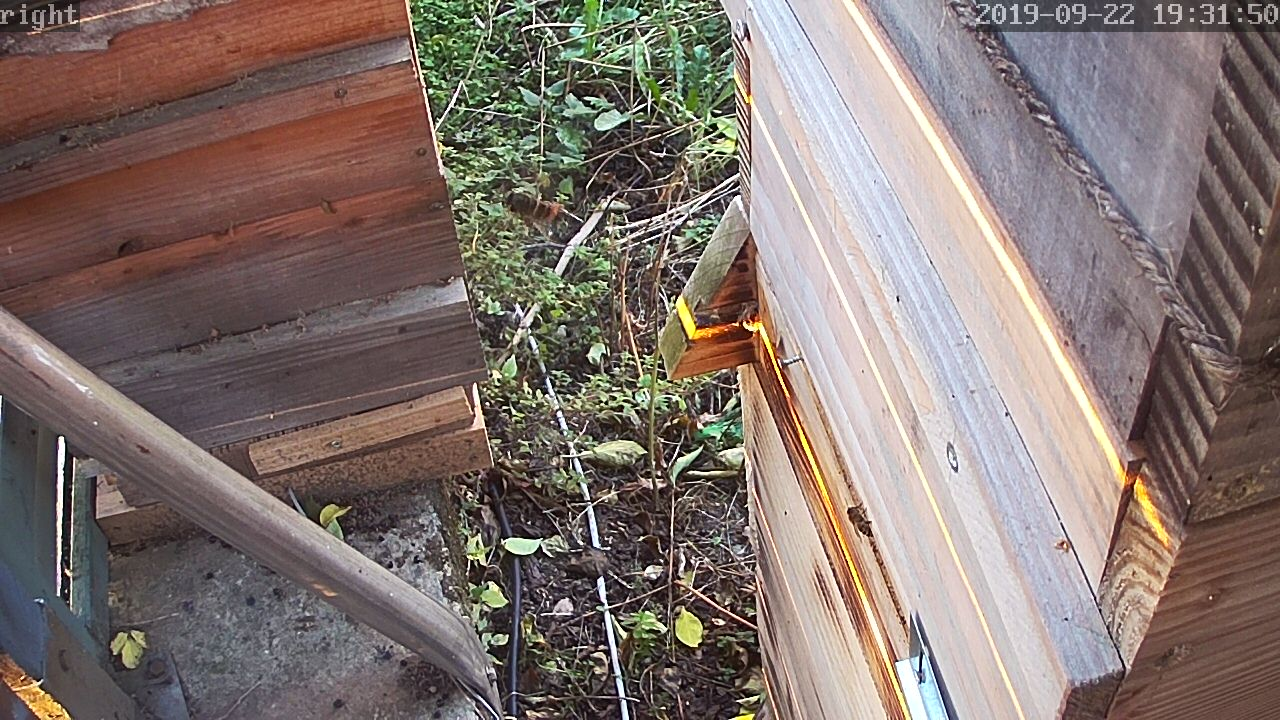bee: (833, 498, 871, 535)
hornet: (496, 184, 561, 224)
